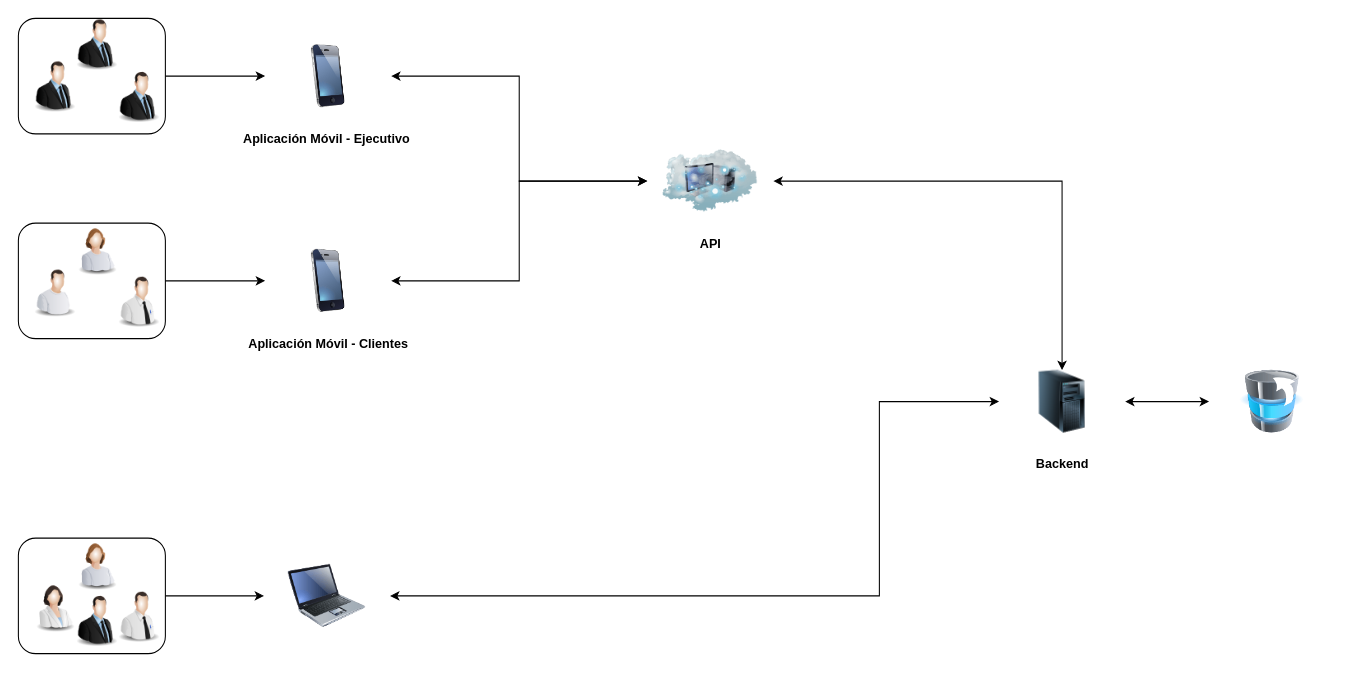
Image size: 1353x685. Some labels were removed from this diagram. Here are the shapes that lost their labels. From the top down, the centre of each, then its label:
At [1272,401]: "Base de Datos".
At [327,595]: "Administrador Web".
